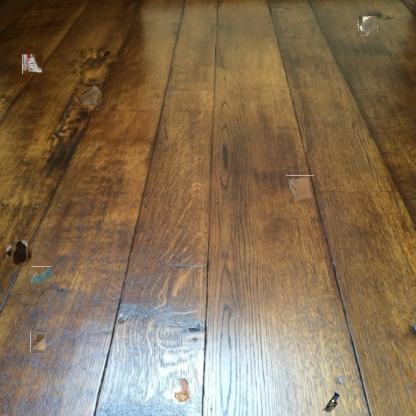dirty: (286, 175, 314, 206), (75, 83, 101, 109), (320, 392, 342, 416), (174, 378, 192, 404), (22, 54, 43, 74), (358, 16, 377, 36), (30, 331, 47, 353)
liquid: (8, 242, 30, 264), (30, 266, 52, 285)
